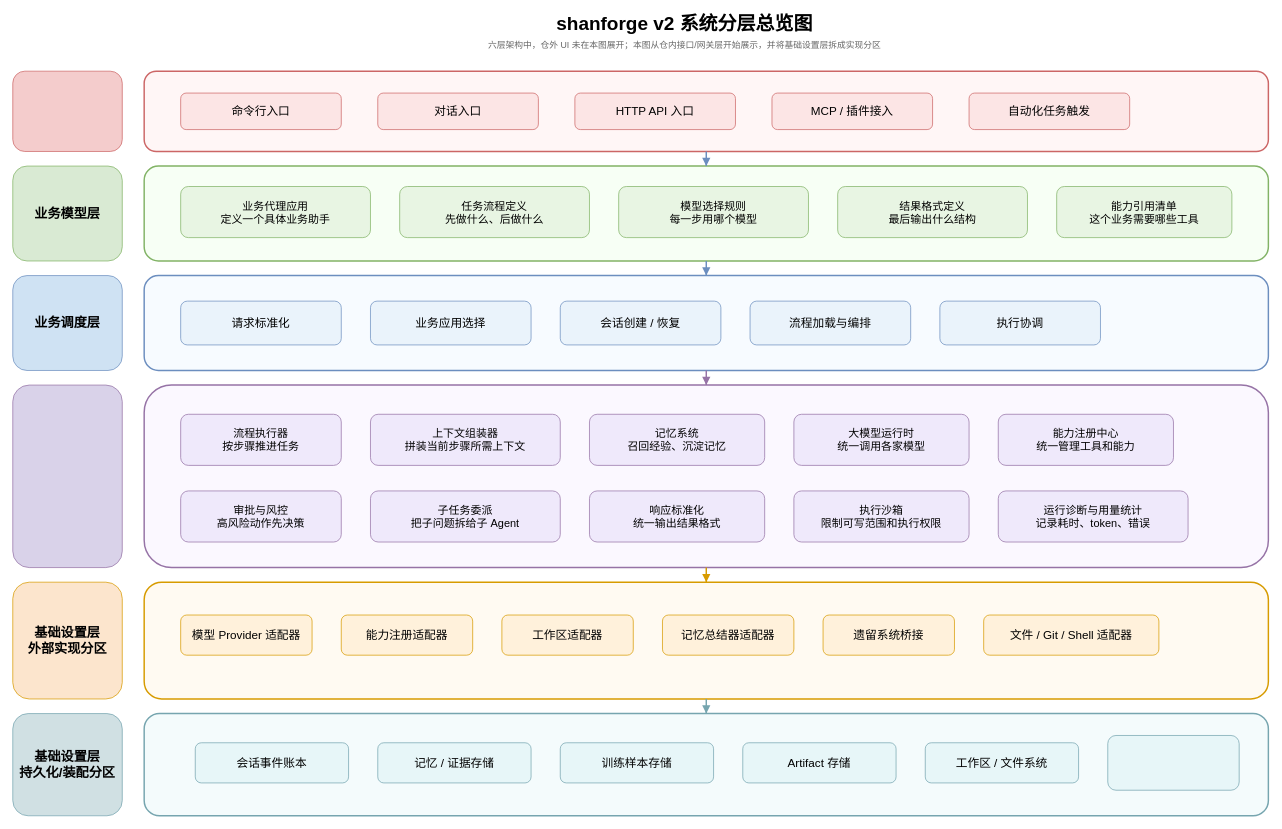
Image size: 1282x829. Some labels were removed from this diagram. Here are the shapes that lost their labels. From the top down, the centre of each, then its label:
(67,110): 接口/网关层
(67,476): 基础能力层
(1173,762): 运行环境 in-memory / JSONL / 向量库扩展
